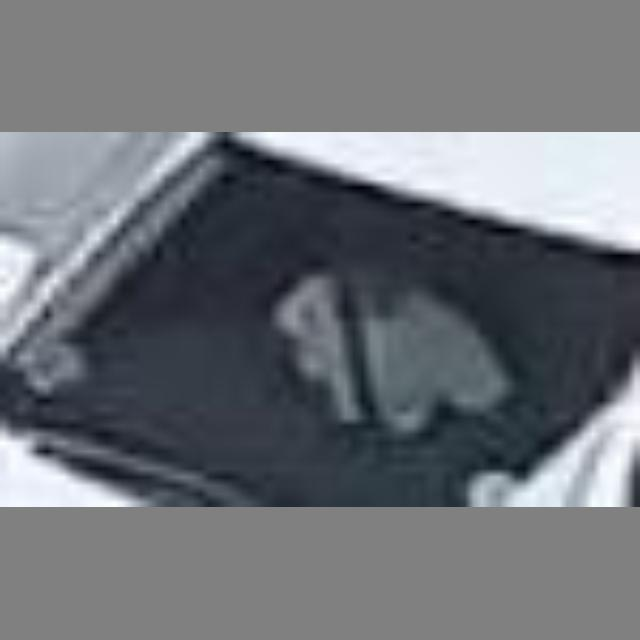pakai: (256, 226, 503, 439)
